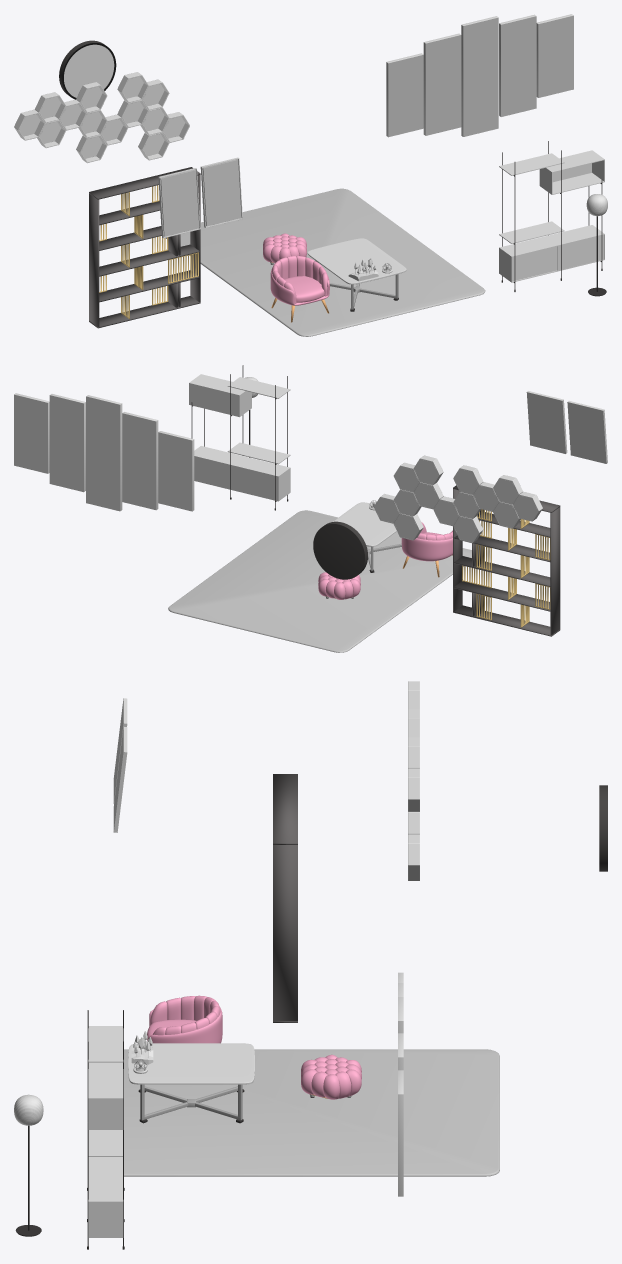
Rendered from Counseling Room ETC.fbx.
The picture shows the model from 3 angles, top to bottom: view 1: azimuth 30°, elevation 25°; view 2: azimuth 150°, elevation 25°; view 3: azimuth 270°, elevation 25°; orthographic projection. The views are drawn at different scales.
Parts seen in each view (by area): view 1: Rug, Mosaic painting, Shelf.001, Hexagonal Wooden Wall Decoration, Room Shelf, Abstract and geometric frames, Glass Table, Velvet Chair.001, Clock, Cylinder.008, Lamp; view 2: Rug, Mosaic painting, Shelf.001, Hexagonal Wooden Wall Decoration, Room Shelf, Abstract and geometric frames, Clock, Glass Table, Velvet Chair.001, Cylinder.008; view 3: Rug, Room Shelf, Shelf.001, Glass Table, Velvet Chair.001, Hexagonal Wooden Wall Decoration, Cylinder.008, Mosaic painting, Lamp, Abstract and geometric frames, Clock.
Part boxes in pixels (box(x1,y1,x2,y2)): Rug: box(166, 188, 485, 336); Mosaic painting: box(386, 14, 573, 137); Shelf.001: box(89, 167, 200, 328); Hexagonal Wooden Wall Decoration: box(14, 72, 189, 162); Room Shelf: box(499, 141, 604, 291); Abstract and geometric frames: box(158, 157, 242, 238); Glass Table: box(307, 238, 406, 311); Velvet Chair.001: box(270, 256, 329, 322); Clock: box(59, 40, 116, 99); Cylinder.008: box(263, 233, 306, 264); Lamp: box(586, 194, 607, 296); Rug: box(168, 510, 471, 652); Mosaic painting: box(14, 393, 194, 511); Shelf.001: box(453, 485, 560, 636); Hexagonal Wooden Wall Decoration: box(374, 455, 542, 542); Room Shelf: box(189, 365, 290, 510); Abstract and geometric frames: box(526, 391, 607, 463); Clock: box(313, 521, 367, 579); Glass Table: box(333, 502, 401, 572); Velvet Chair.001: box(401, 522, 452, 577); Cylinder.008: box(318, 572, 360, 599); Rug: box(124, 1049, 499, 1176); Room Shelf: box(87, 1010, 124, 1249); Shelf.001: box(273, 774, 297, 1022); Glass Table: box(128, 1043, 254, 1123); Velvet Chair.001: box(147, 995, 222, 1043); Hexagonal Wooden Wall Decoration: box(408, 681, 419, 880); Cylinder.008: box(301, 1054, 361, 1099); Mosaic painting: box(398, 972, 403, 1196); Lamp: box(14, 1094, 43, 1236); Abstract and geometric frames: box(113, 698, 127, 832); Clock: box(599, 785, 607, 871).
Bounding box in the file's own units: 8.88 × 3 × 5.97.
